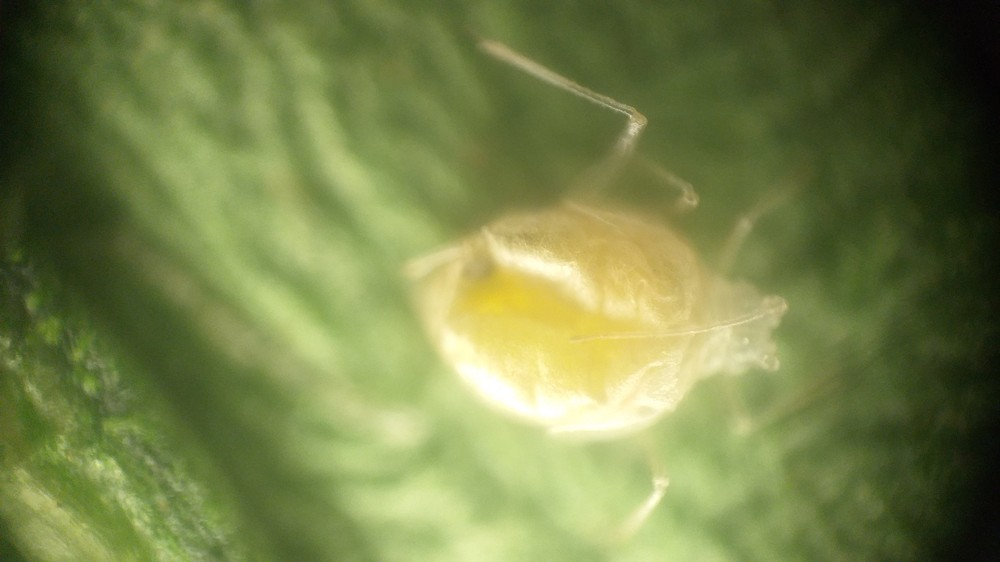Pulgon: (367, 58, 872, 521)
